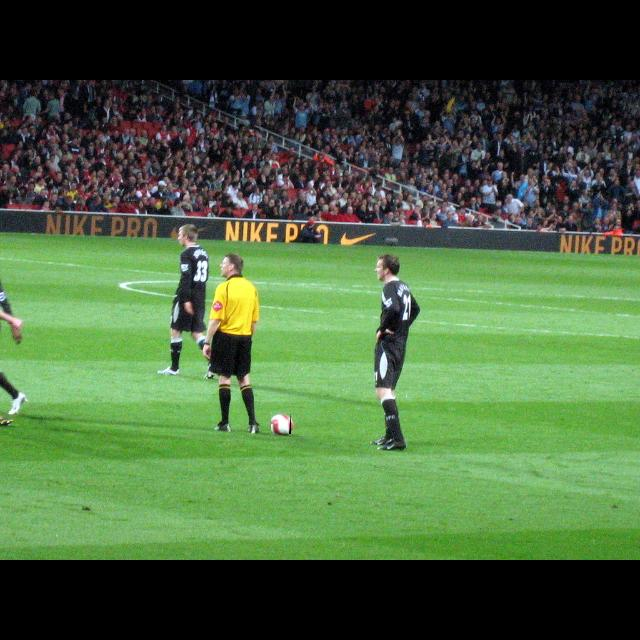Football: (271, 412, 291, 434)
